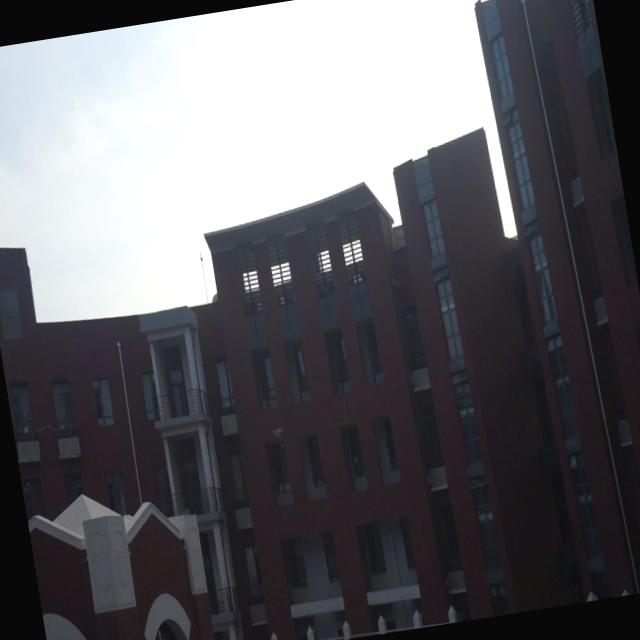drone: (268, 422, 288, 442)
